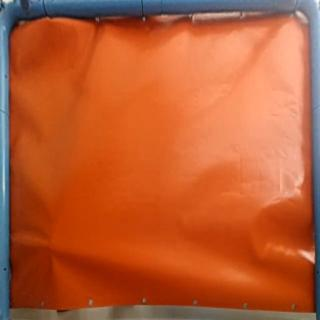Hit-hRxx: (44, 238, 59, 254)
